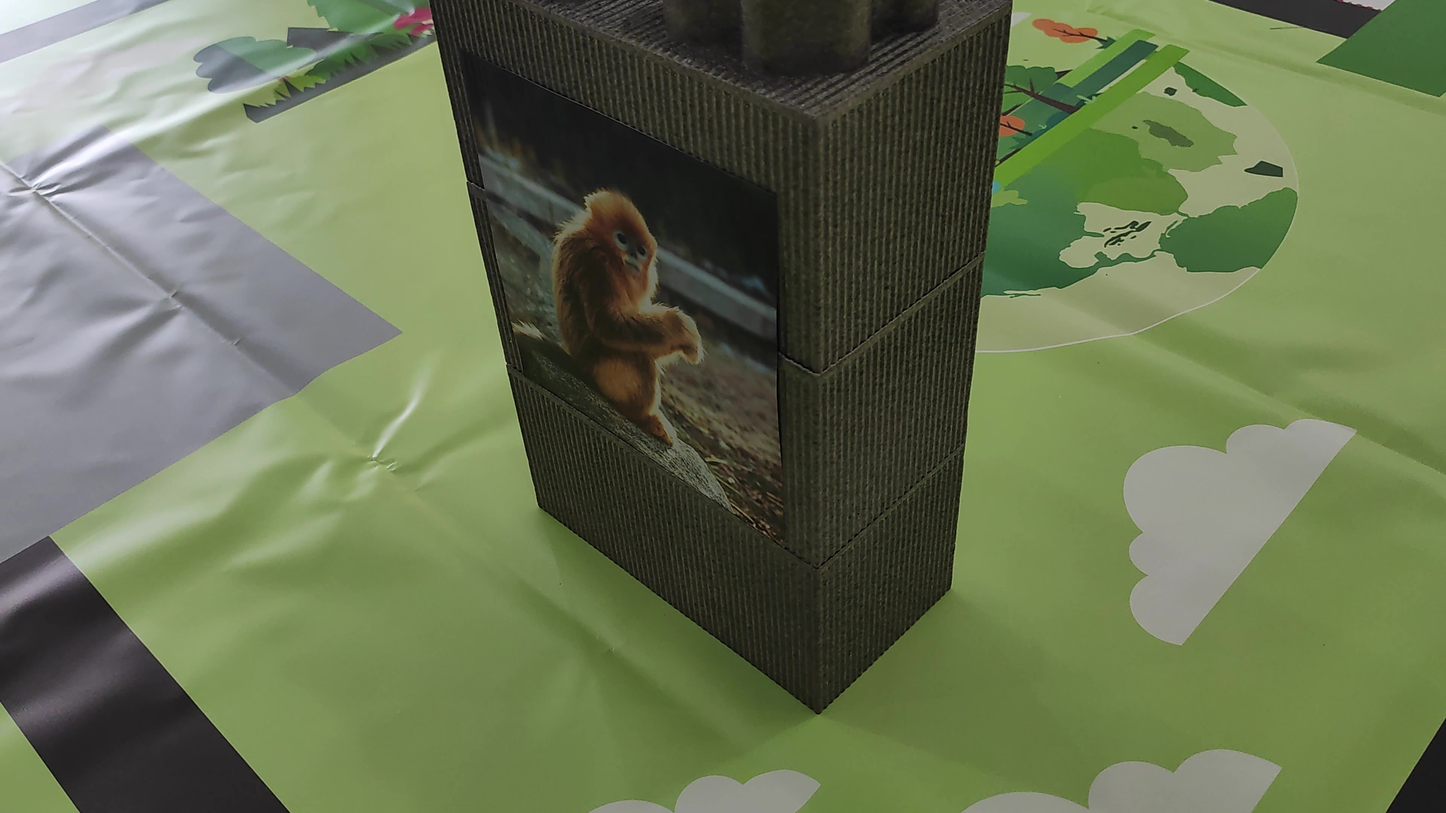monkey: (489, 136, 740, 450)
